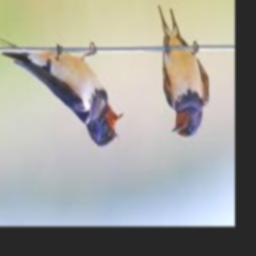Swallow: (0, 31, 126, 147), (159, 5, 209, 140)
